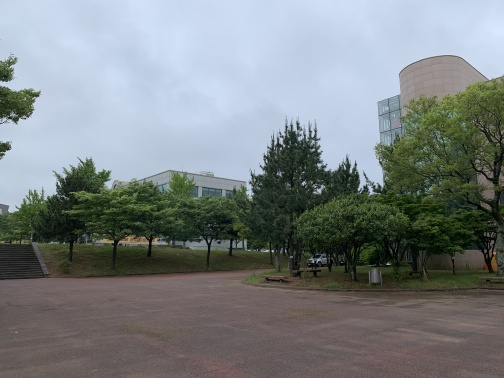Joint Experimental Labs: (373, 47, 490, 150)
Second Library: (110, 164, 252, 203)
